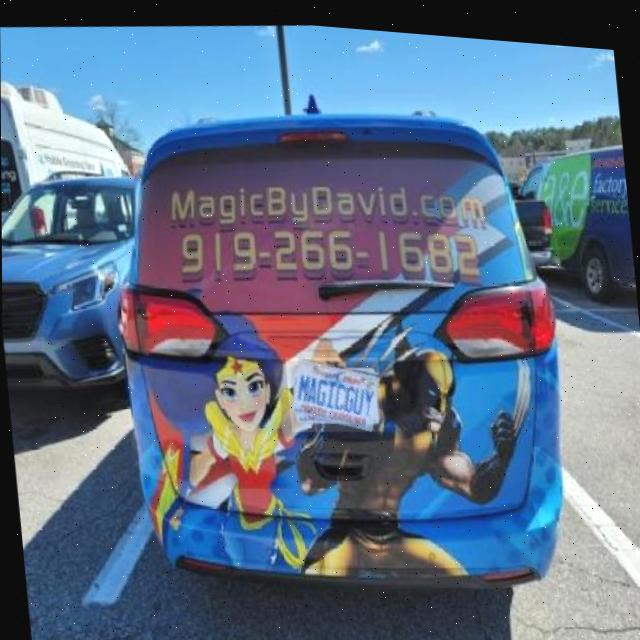LicensePlate: (289, 353, 378, 425)
